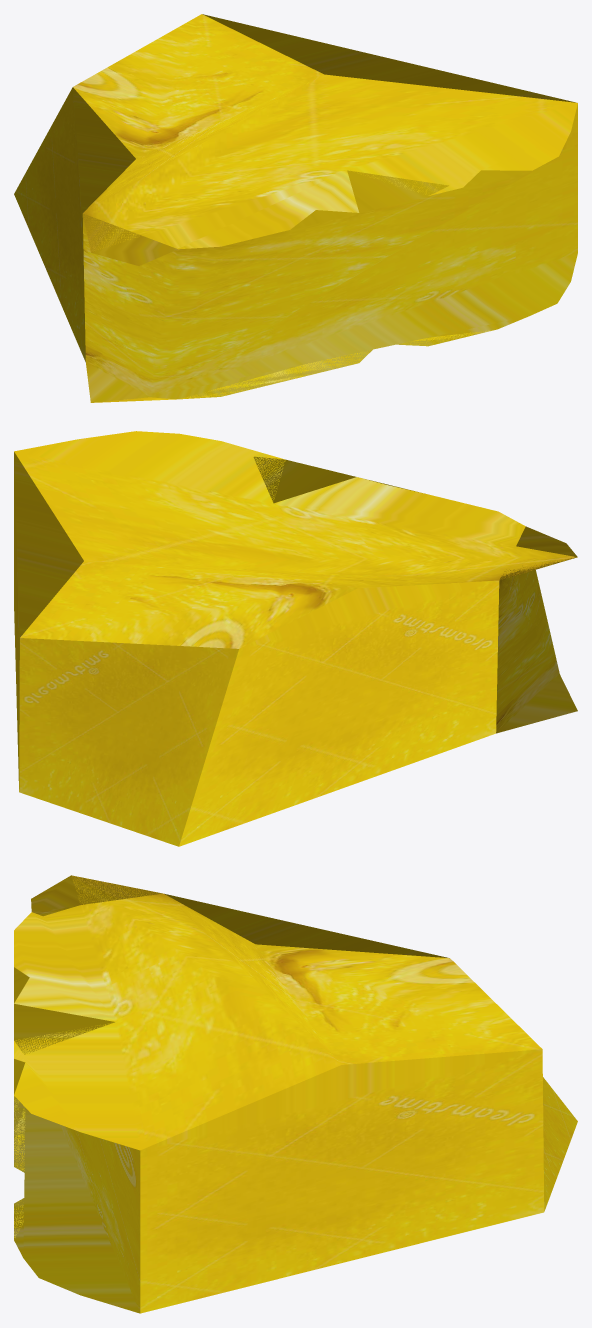
Rendered from pinapple_2.glb.
The picture shows the model from 3 angles, top to bottom: view 1: azimuth 30°, elevation 25°; view 2: azimuth 150°, elevation 25°; view 3: azimuth 270°, elevation 25°; orthographic projection. The views are drawn at different scales.
Visible parts, largest first — view 1: Cube; view 2: Cube; view 3: Cube.
Boxes of the visible parts, x1,y1,x2,y2 form: Cube: (14,14,577,402); Cube: (14,431,577,846); Cube: (14,875,577,1313).
Bounding box in the file's own units: 0.0815 × 0.0237 × 0.0706.
1 material, 1 textured.
